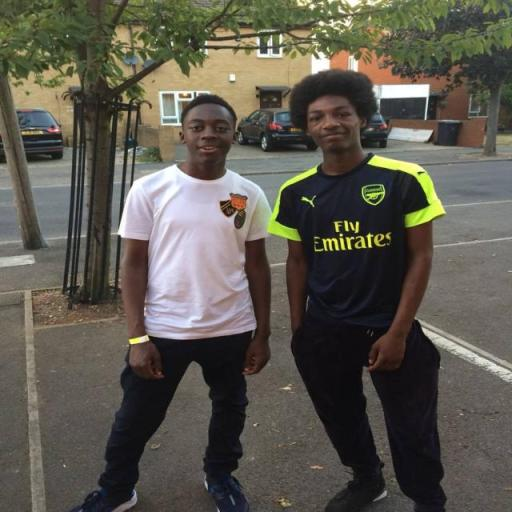Emirates: (310, 217, 394, 254)
